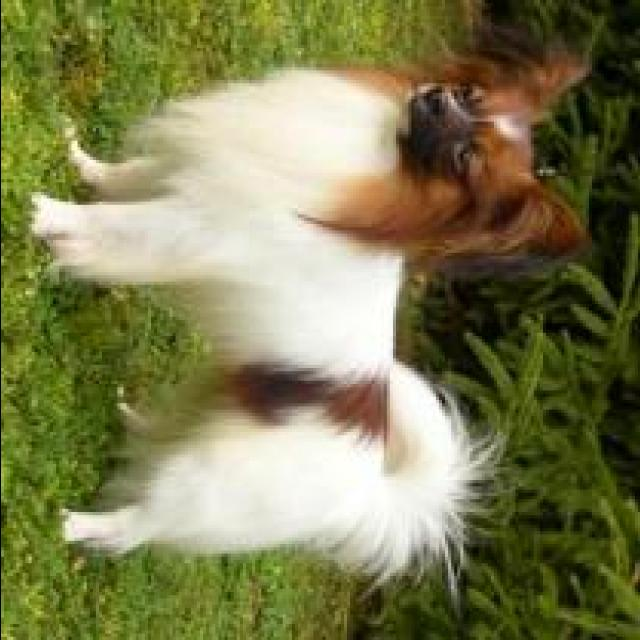papillon: (21, 16, 588, 605)
